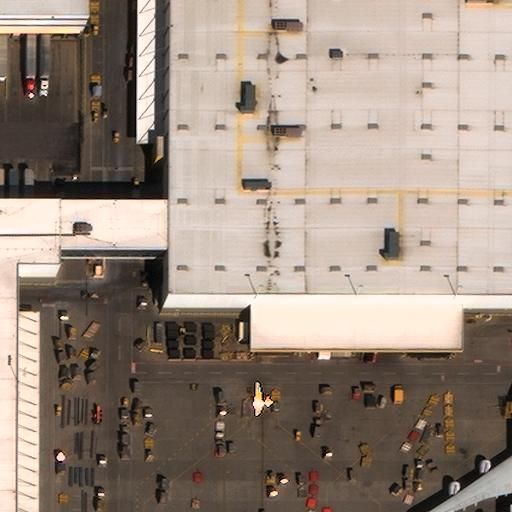Large Civil Transport: (425, 404, 511, 512)
